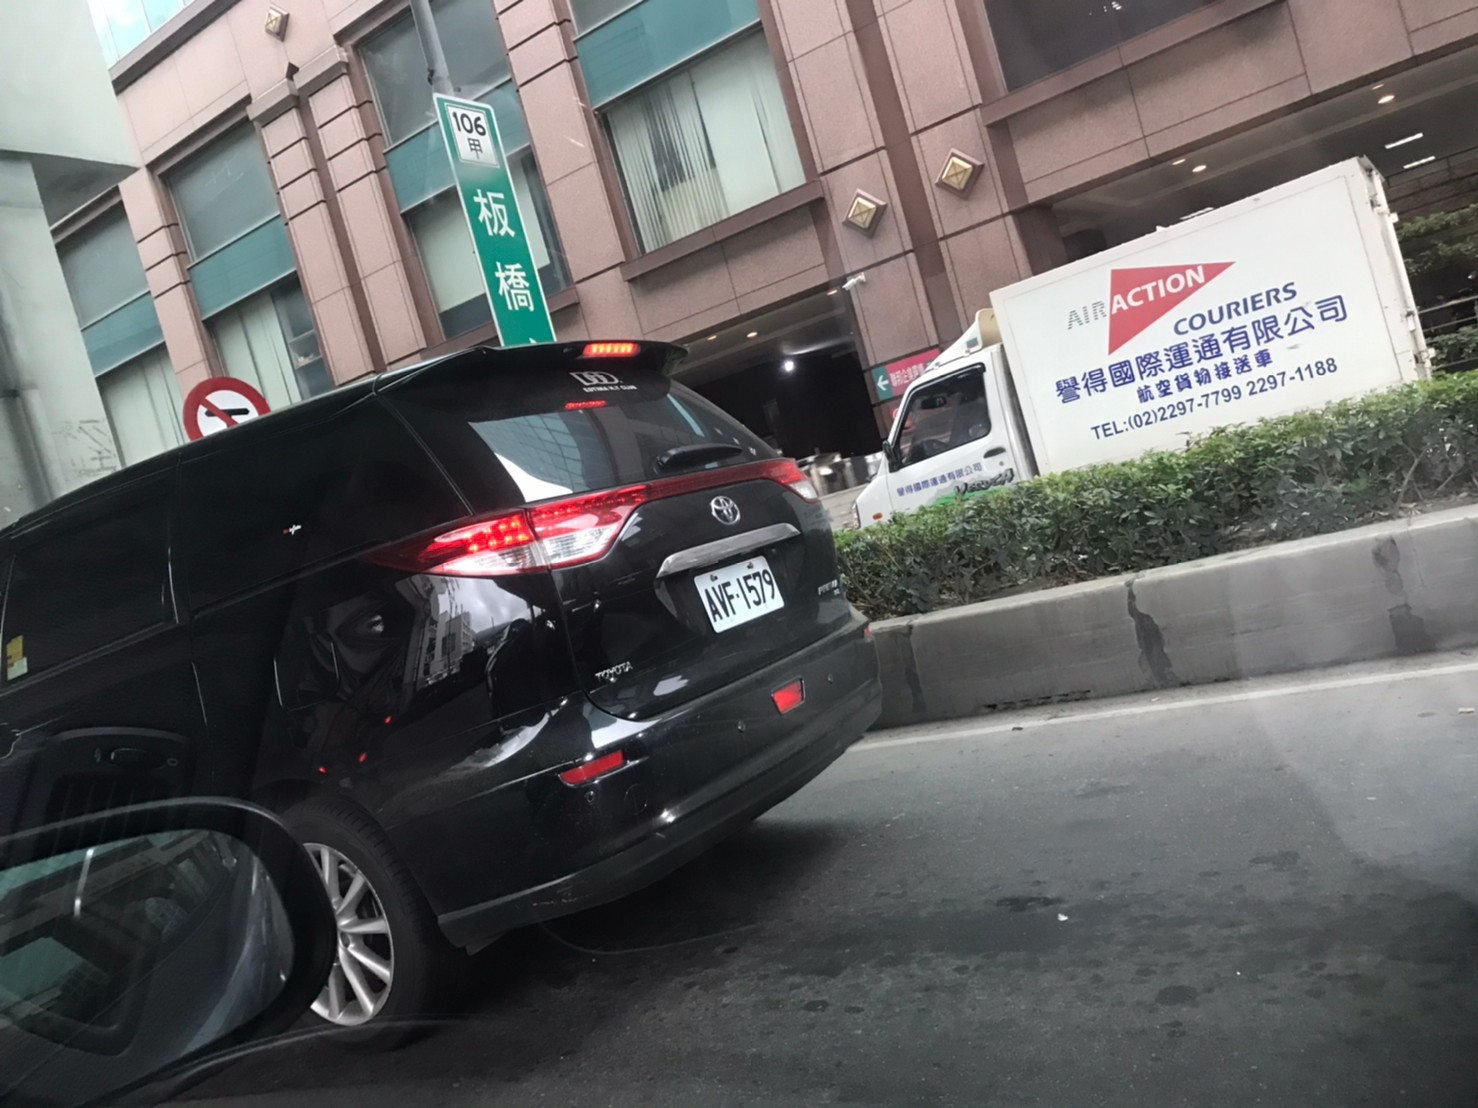LP: (698, 563, 788, 628)
